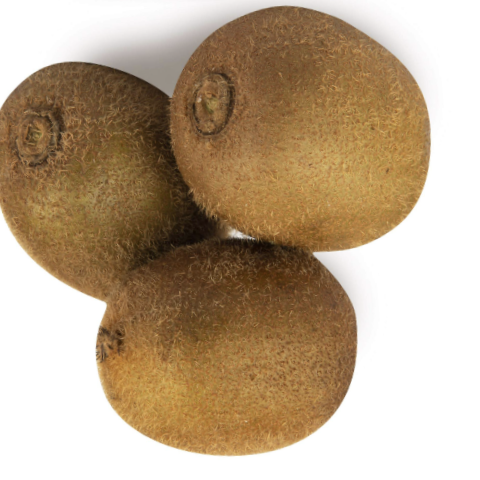kiwi: (134, 0, 457, 284), (83, 221, 393, 479), (0, 21, 246, 309)
